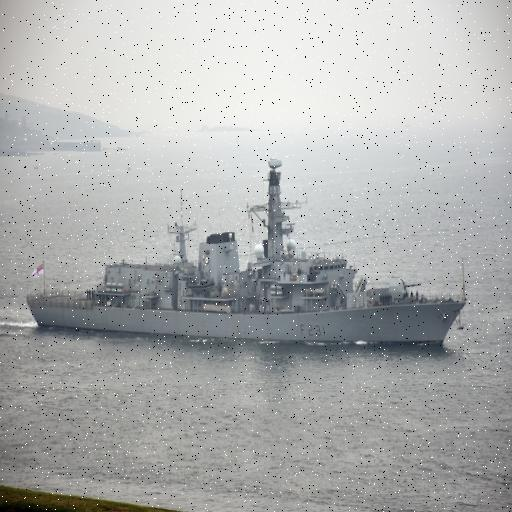Fragata: (24, 154, 473, 356)
